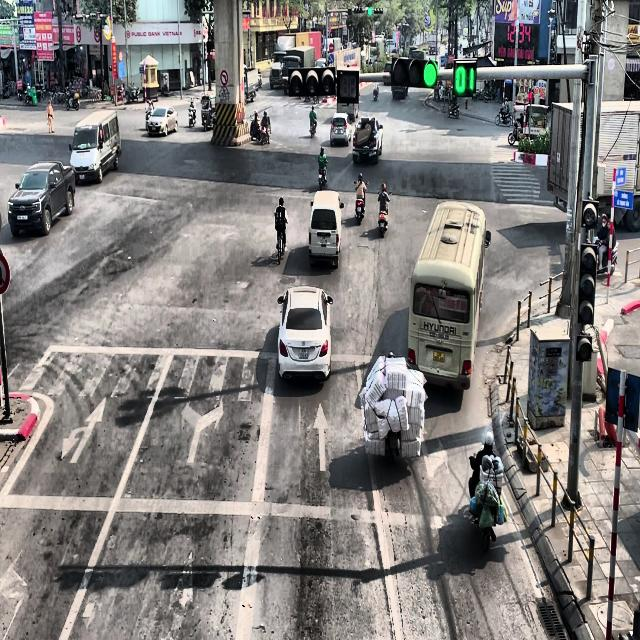BUS: (407, 200, 491, 391)
CAR: (276, 286, 332, 382), (7, 160, 76, 236), (352, 116, 383, 164), (146, 106, 178, 136), (330, 112, 350, 146)
MOTORBIKE: (469, 456, 504, 552), (274, 216, 288, 264), (377, 193, 390, 236), (508, 118, 523, 146), (495, 106, 512, 126), (318, 163, 327, 190), (260, 123, 270, 145), (145, 98, 154, 122), (188, 104, 196, 128), (448, 102, 460, 118), (310, 120, 316, 138), (372, 84, 378, 100)
TRAFFIC_LIGHT: (577, 242, 597, 326), (391, 55, 438, 89), (453, 58, 477, 96), (367, 6, 383, 16), (367, 6, 372, 16)
